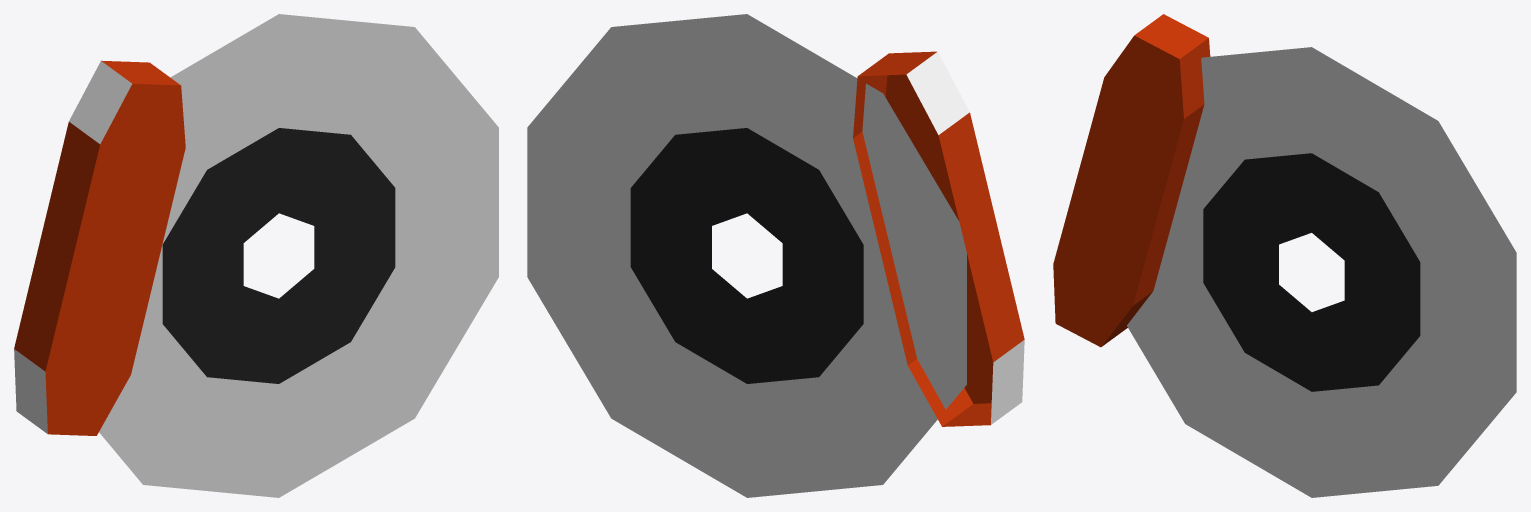
The model's file is wheel-other.dae.
3 views of the same model, side by side, from view 1: azimuth 30°, elevation 25°; view 2: azimuth 150°, elevation 25°; view 3: azimuth 330°, elevation 25° (orthographic). The views are drawn at different scales.
Parts seen in each view (by area): view 1: group_1 (×2), group_2 (×3); view 2: group_1 (×2), group_2 (×3); view 3: group_1 (×2), group_2.
Boxes of the visible parts, x1,y1,x2,y2 form: group_1 (×2): (99,14,498,497); group_2 (×3): (14,60,185,435); group_1 (×2): (527,14,966,497); group_2 (×3): (853,51,1024,426); group_1 (×2): (1127,47,1516,497); group_2: (1053,14,1210,347).
Bounding box in the file's own units: 13.76 × 1.57 × 13.39.
